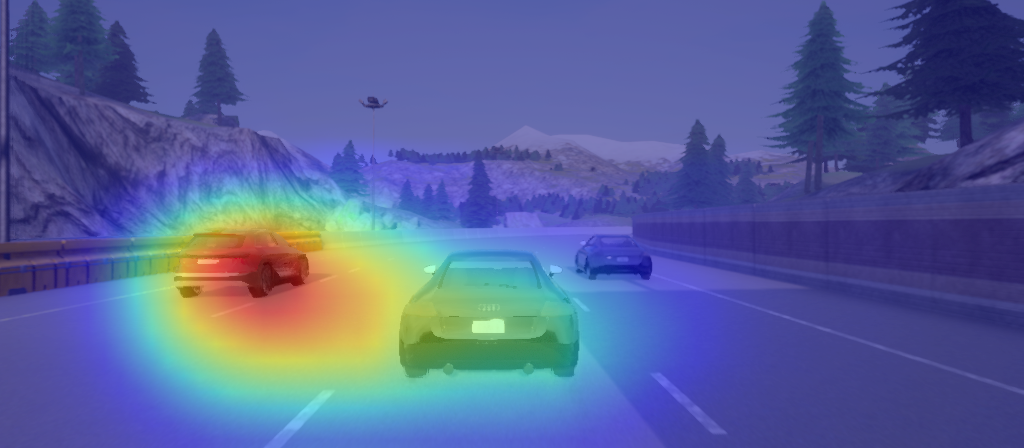Car: (395, 247, 585, 384), (171, 224, 314, 302), (573, 233, 660, 285)
Lane Marker: (645, 366, 733, 443), (257, 387, 342, 446), (209, 299, 261, 322), (570, 293, 594, 316), (345, 264, 365, 279)
Light Pole: (356, 93, 391, 231), (3, 1, 11, 245)
